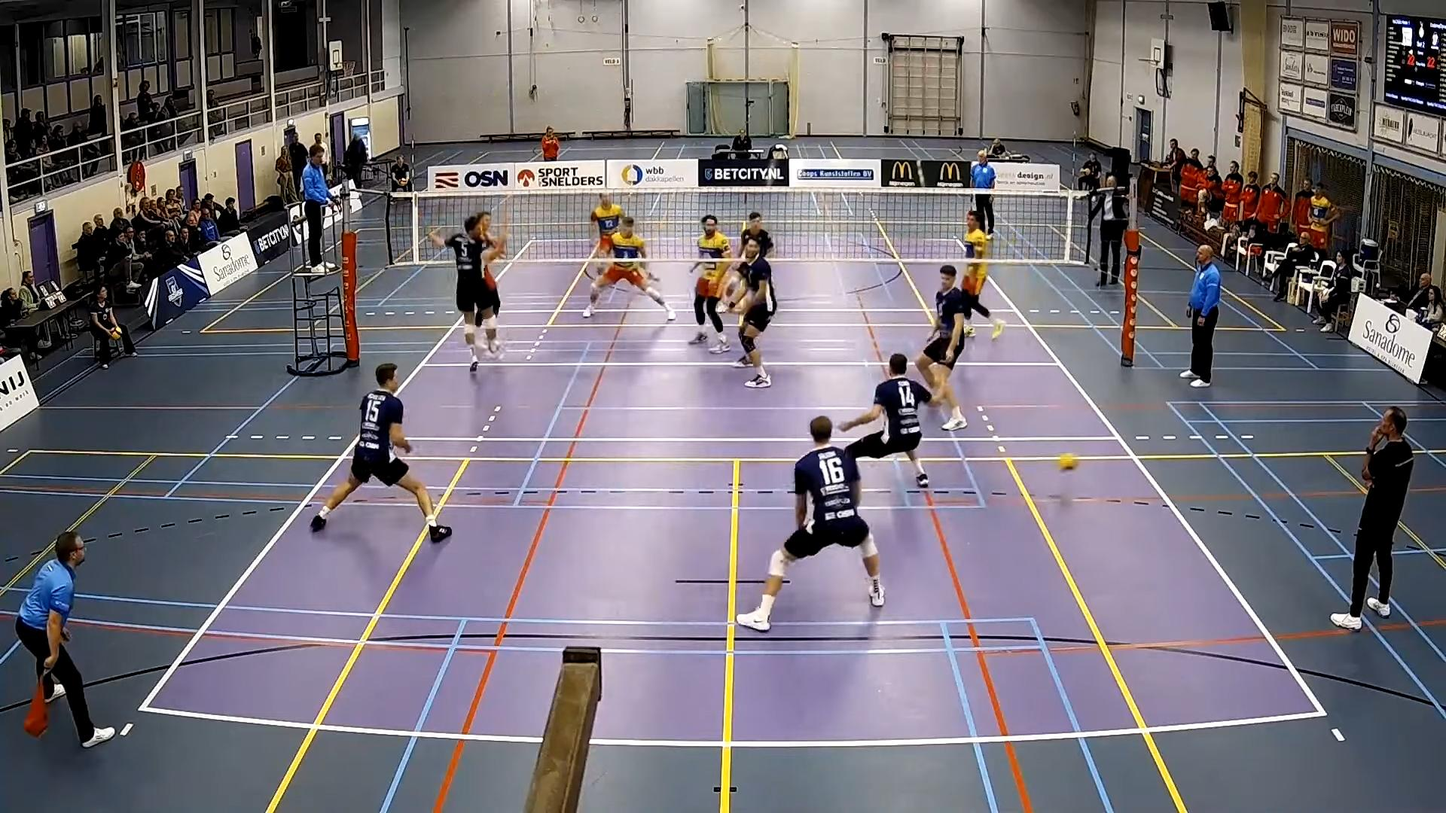Dig: (829, 354, 947, 489)
Player: (736, 416, 884, 632), (310, 363, 450, 541), (838, 353, 931, 487), (429, 212, 501, 371), (582, 217, 675, 320), (916, 264, 967, 431), (728, 234, 776, 388), (959, 210, 1004, 338), (689, 215, 730, 353), (590, 192, 624, 257), (740, 212, 773, 257)
ball: (1060, 451, 1077, 470)
